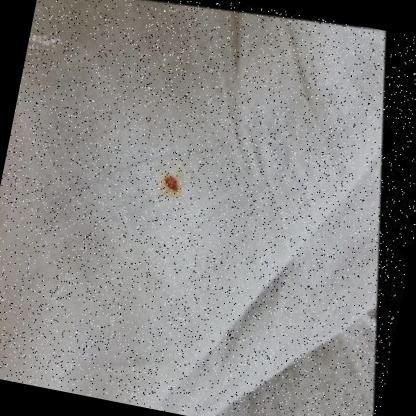kimchi: (157, 163, 185, 198)
